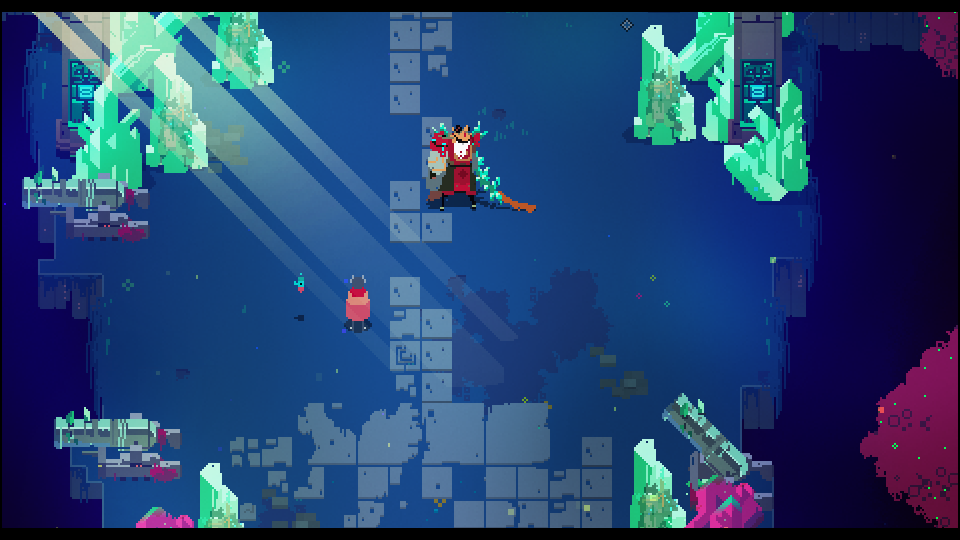hanged_man: (428, 124, 503, 212)
player: (343, 271, 369, 332)
